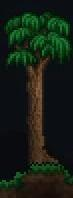tree: (1, 1, 73, 198)
